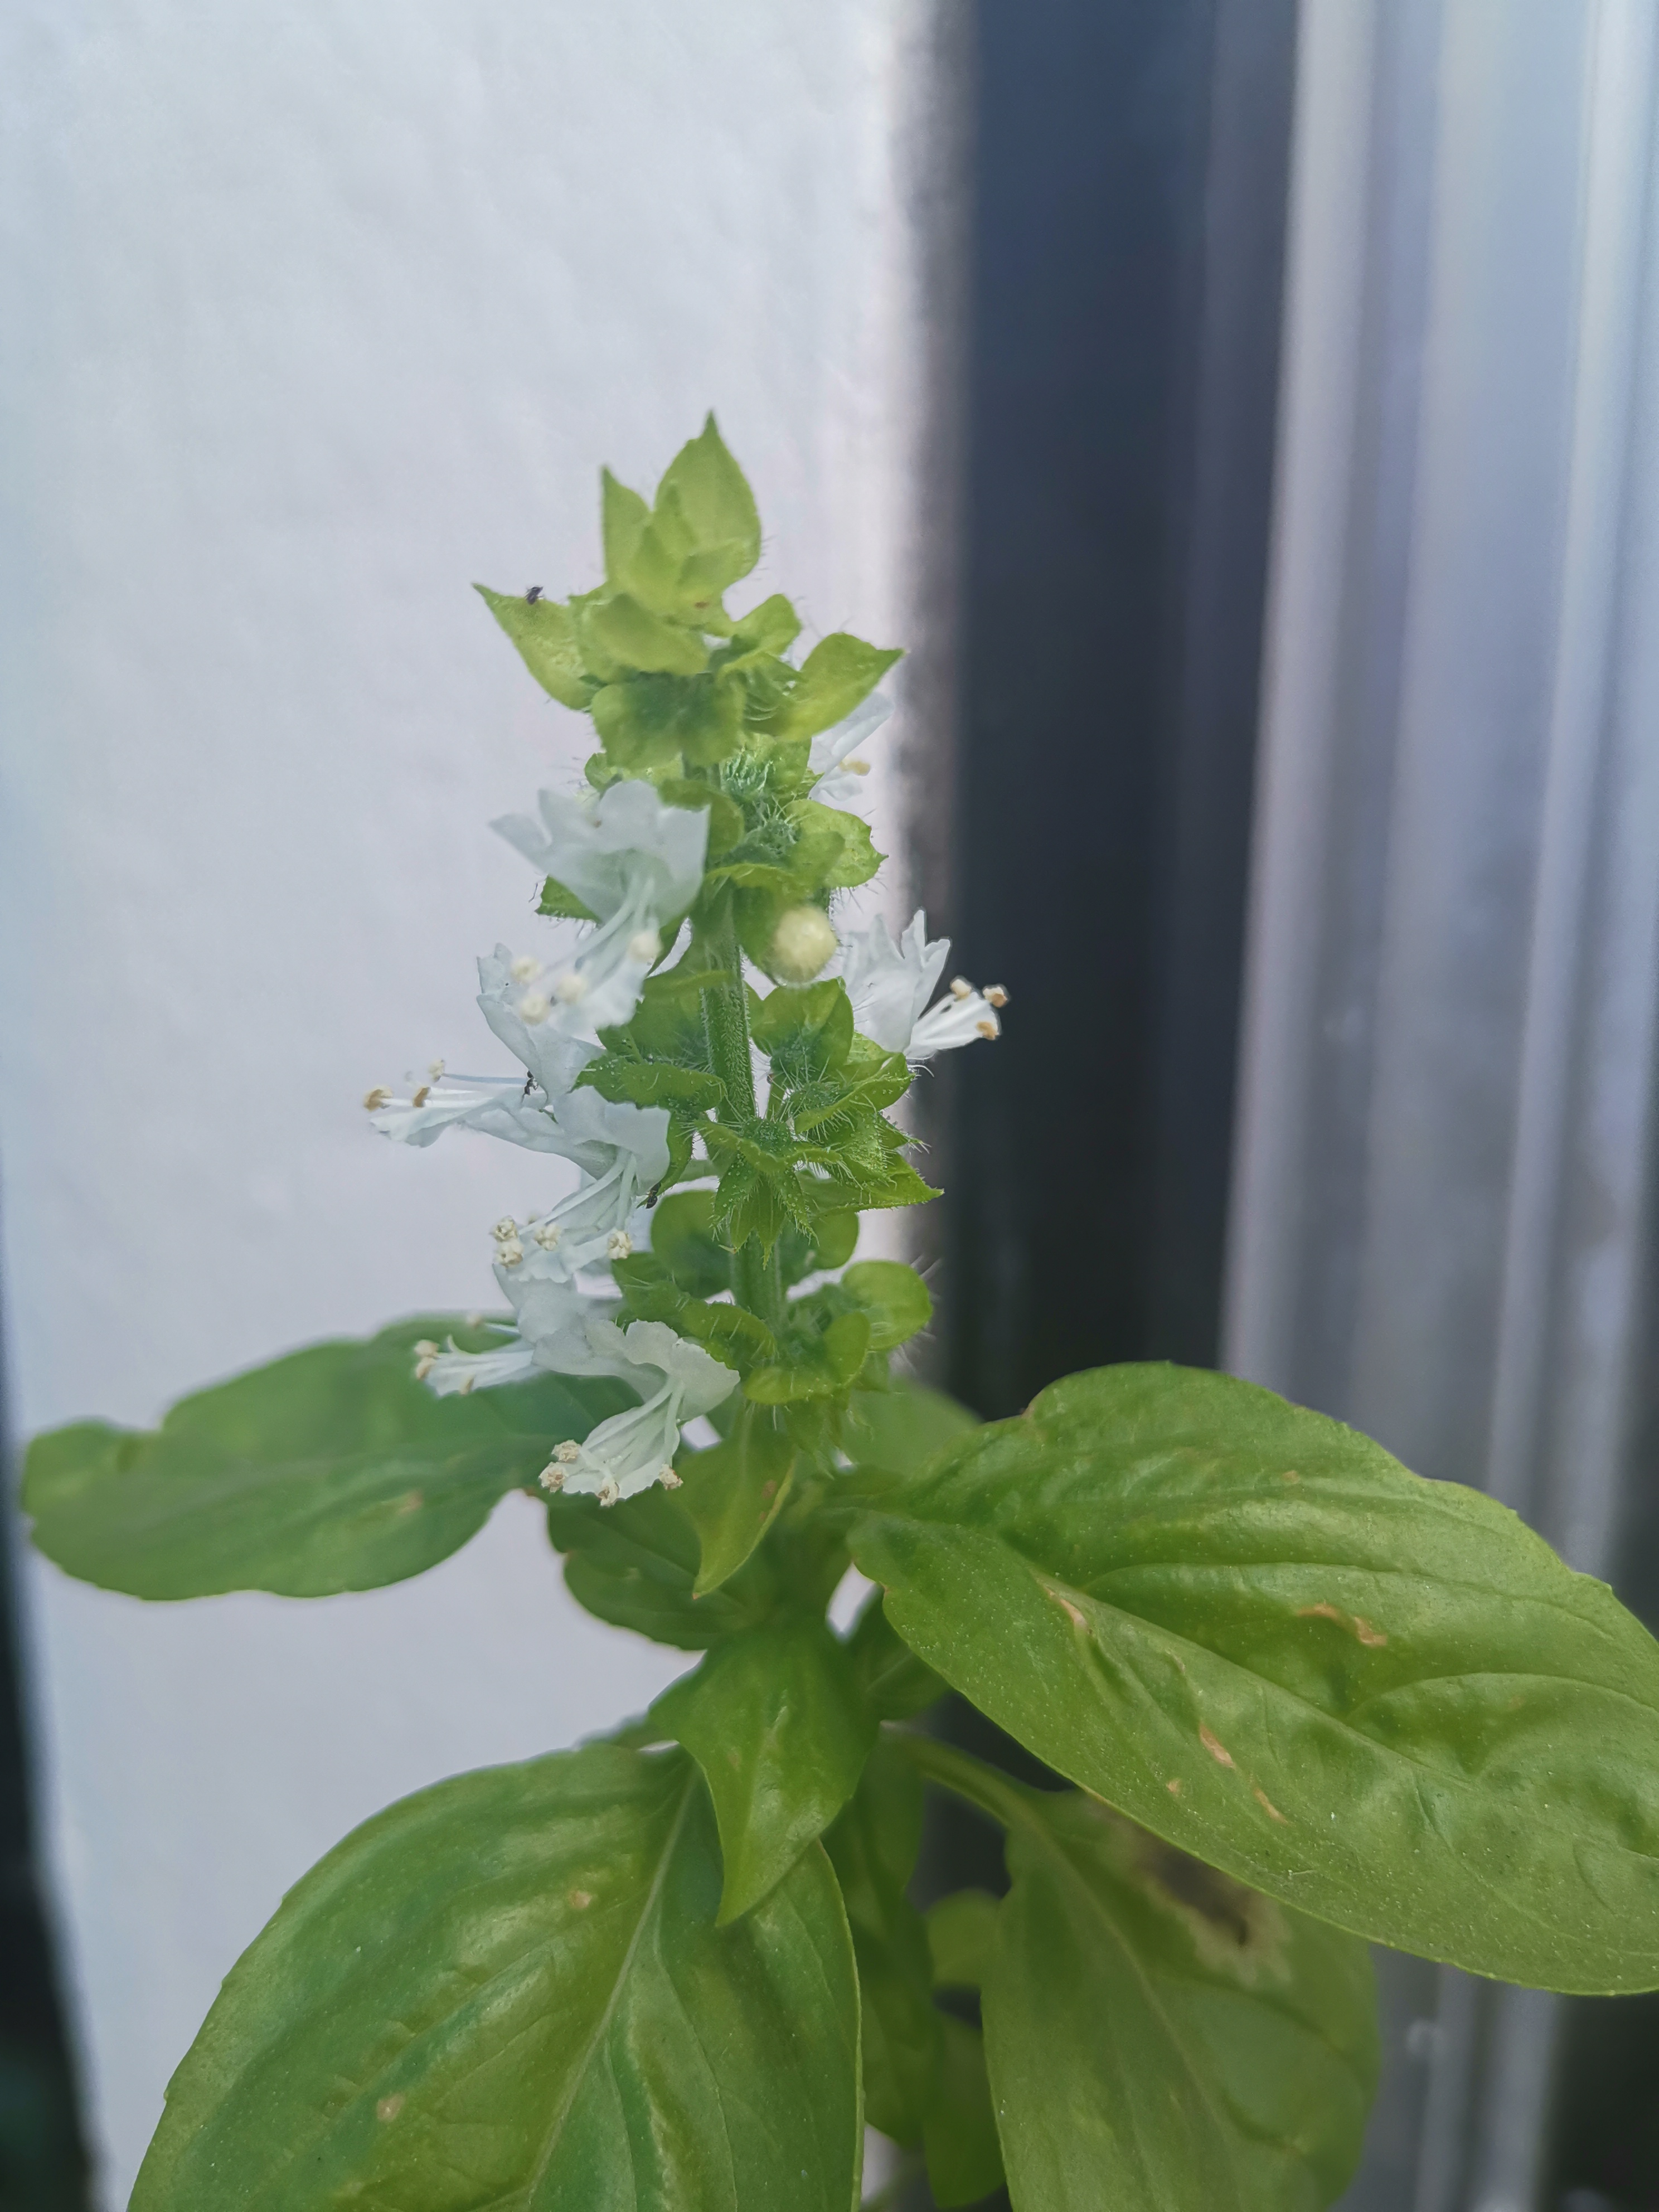Basil_healthy: (903, 1332, 1659, 2043), (84, 1723, 864, 2212), (0, 1287, 687, 1608)
